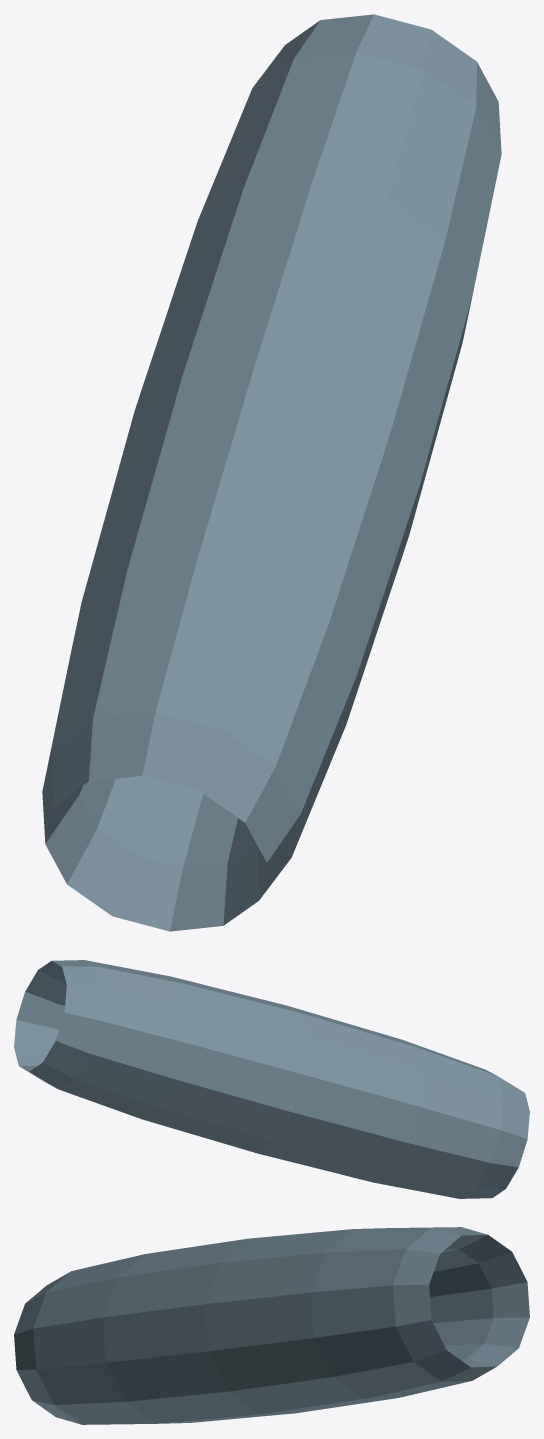
The model's file is astronaut_spawn_group279303741_lev4.glb.
The picture shows the model from 3 angles, top to bottom: view 1: azimuth 30°, elevation 25°; view 2: azimuth 150°, elevation 25°; view 3: azimuth 270°, elevation 25°; orthographic projection. The views are drawn at different scales.
Parts seen in each view (by area): view 1: astronaut_spawn_group279303741_lev4; view 2: astronaut_spawn_group279303741_lev4; view 3: astronaut_spawn_group279303741_lev4.
Part boxes in pixels (x1,y1,x2,y2): astronaut_spawn_group279303741_lev4: (42, 14, 501, 931); astronaut_spawn_group279303741_lev4: (14, 960, 529, 1198); astronaut_spawn_group279303741_lev4: (14, 1227, 529, 1424).
Size of the model in its own units: 0.1481 by 0.1081 by 0.1517.
